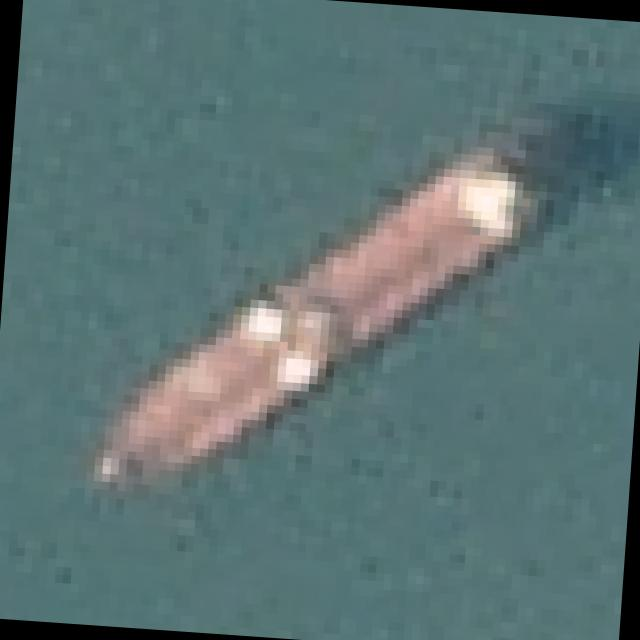ship: (33, 58, 604, 590)
